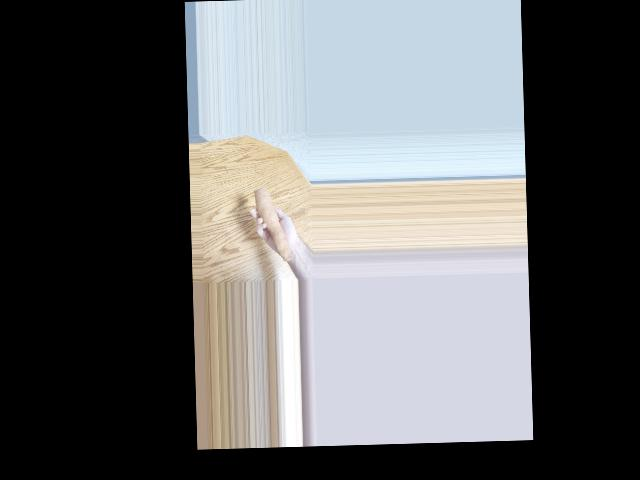sweet_potato: (252, 186, 293, 264)
